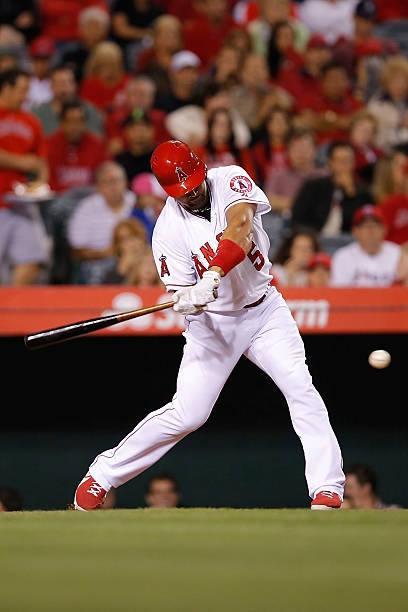bita: (21, 287, 218, 349)
